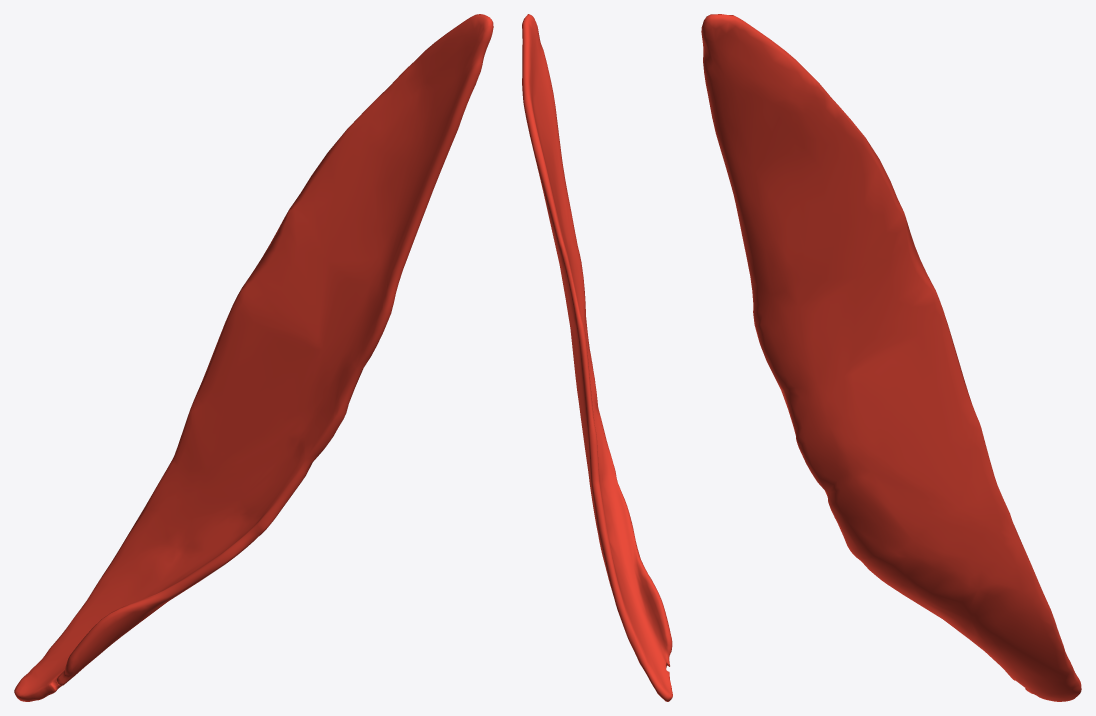
File: Teres_major_muscle-Scapular_insertion.l_Generated_Mesh_From_X3D.glb
The picture shows the model from 3 angles, left to right: view 1: azimuth 30°, elevation 25°; view 2: azimuth 150°, elevation 25°; view 3: azimuth 270°, elevation 25°; orthographic projection. The views are drawn at different scales.
Parts seen in each view (by area): view 1: Teres_major_muscle-Scapular_insertion.l_Generated_Mesh_From_; view 2: Teres_major_muscle-Scapular_insertion.l_Generated_Mesh_From_; view 3: Teres_major_muscle-Scapular_insertion.l_Generated_Mesh_From_.
Part boxes in pixels (left/top/right/bottom): Teres_major_muscle-Scapular_insertion.l_Generated_Mesh_From_: left=14, top=14, right=493, bottom=701; Teres_major_muscle-Scapular_insertion.l_Generated_Mesh_From_: left=522, top=14, right=672, bottom=701; Teres_major_muscle-Scapular_insertion.l_Generated_Mesh_From_: left=701, top=14, right=1081, bottom=701.
Size of the model in its own units: 0.0173 by 0.0353 by 0.0138.
